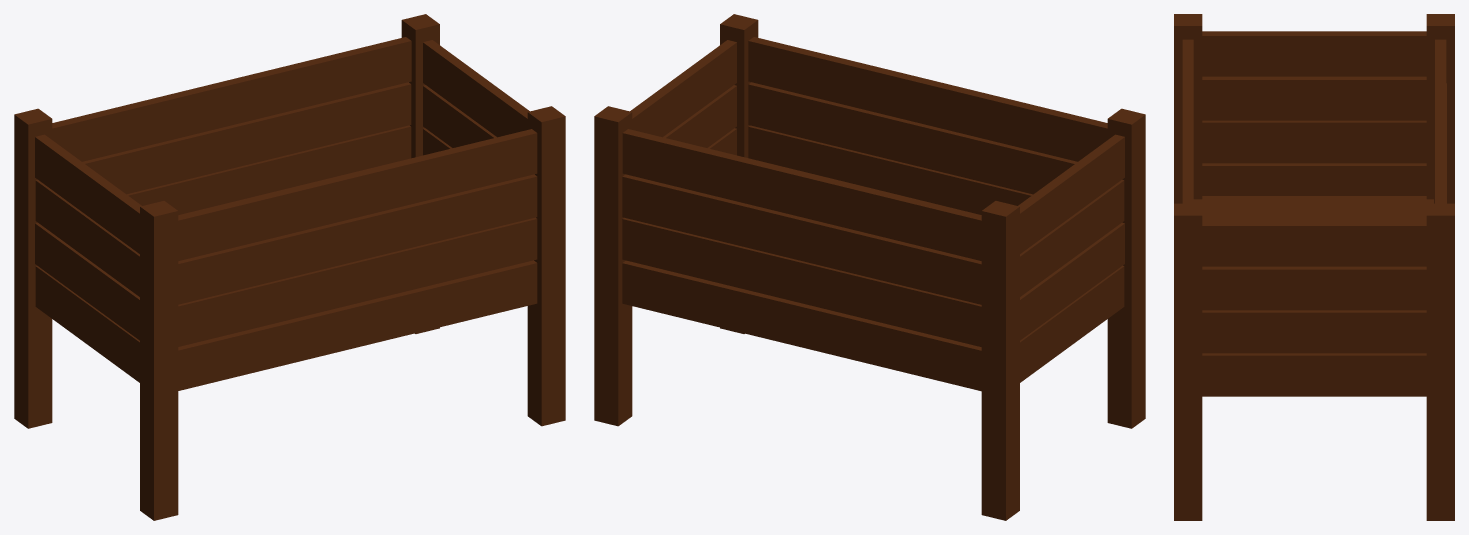
Rendered from etaleLegumes.fbx.
3 views of the same model, side by side, from view 1: azimuth 30°, elevation 25°; view 2: azimuth 150°, elevation 25°; view 3: azimuth 270°, elevation 25° (orthographic).
Visible parts, largest first — view 1: Cube.004, Cube.016, Cube.007, Cube.005, Cube.006, Cube.017, Cube, Cube.001, Cube.003, Cube.018, Cube.008, Cube.015 (+5 smaller); view 2: Cube.016, Cube.004, Cube.019, Cube.017, Cube.018, Cube.005, Cube.003, Cube.002, Cube, Cube.006, Cube.008, Cube.015 (+5 smaller); view 3: Cube.008, Cube.015, Cube.009, Cube.014, Cube.010, Cube.012, Cube.013, Cube.001, Cube.002, Cube.011, Cube.020, Cube (+3 smaller).
Part boxes in pixels (<box>): Cube.004: <box>178,129,537,260</box>; Cube.016: <box>52,37,411,161</box>; Cube.007: <box>178,260,537,390</box>; Cube.005: <box>178,174,537,304</box>; Cube.006: <box>178,217,537,346</box>; Cube.017: <box>82,82,411,194</box>; Cube: <box>140,201,178,520</box>; Cube.001: <box>527,106,565,426</box>; Cube.003: <box>14,108,52,428</box>; Cube.018: <box>127,125,411,214</box>; Cube.008: <box>35,134,141,253</box>; Cube.015: <box>423,40,529,137</box>; Cube.016: <box>622,129,981,260</box>; Cube.004: <box>748,37,1107,161</box>; Cube.019: <box>622,260,981,391</box>; Cube.017: <box>622,174,981,304</box>; Cube.018: <box>622,217,981,346</box>; Cube.005: <box>748,82,1077,194</box>; Cube.003: <box>981,201,1019,520</box>; Cube.002: <box>594,106,632,426</box>; Cube: <box>1107,108,1145,428</box>; Cube.006: <box>748,125,1032,214</box>; Cube.008: <box>1018,134,1124,253</box>; Cube.015: <box>630,40,736,137</box>; Cube.008: <box>1202,31,1426,76</box>; Cube.015: <box>1202,221,1426,266</box>; Cube.009: <box>1202,76,1426,120</box>; Cube.014: <box>1202,266,1426,310</box>; Cube.010: <box>1202,120,1426,163</box>; Cube.012: <box>1202,353,1426,396</box>; Cube.013: <box>1202,310,1426,353</box>; Cube.001: <box>1174,203,1202,520</box>; Cube.002: <box>1426,203,1454,520</box>; Cube.011: <box>1202,163,1426,195</box>; Cube.020: <box>1193,196,1433,221</box>; Cube: <box>1174,14,1202,203</box>.
Size of the model in its own units: 1700 by 1200 by 1000.
